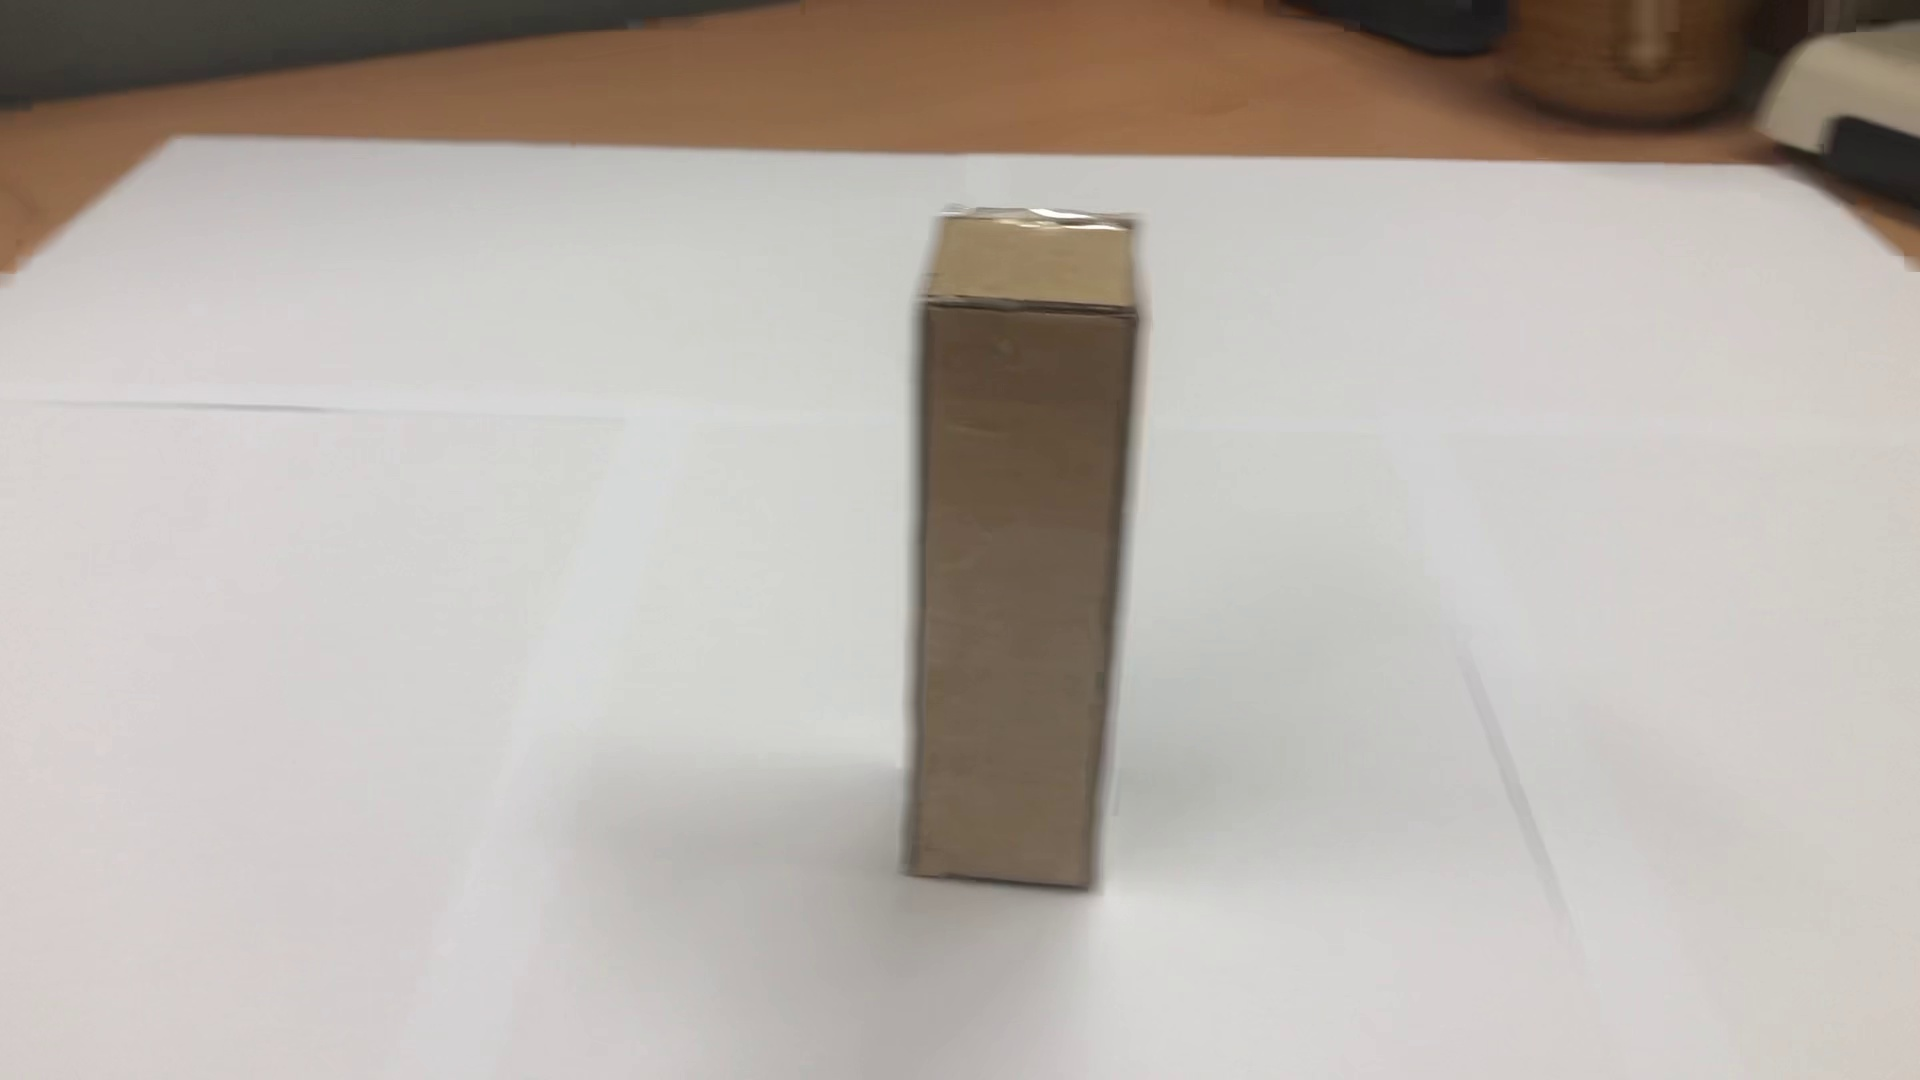box: (884, 202, 1143, 918)
